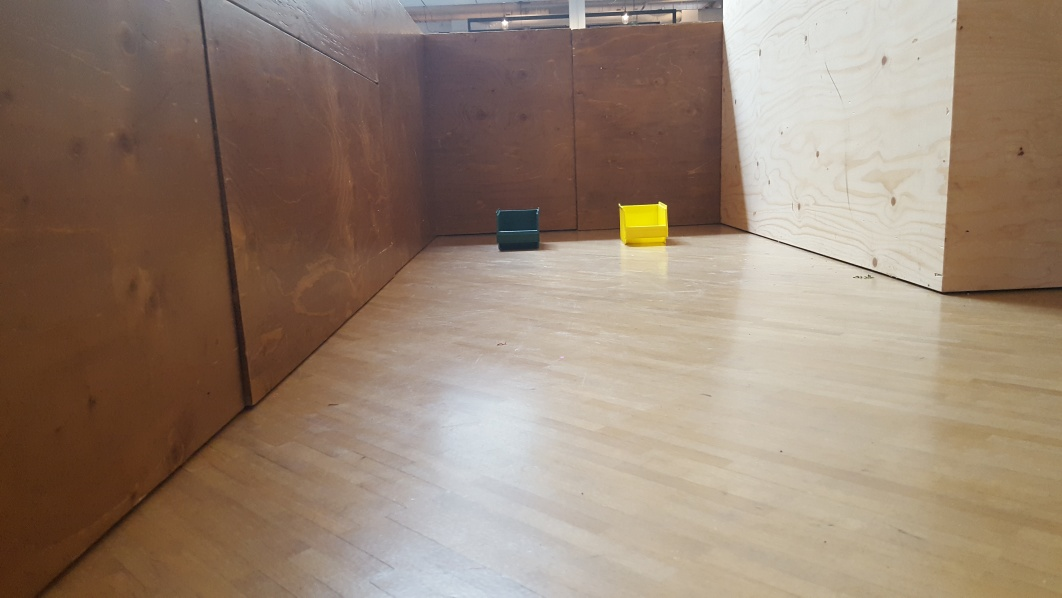tray: (492, 204, 544, 250), (619, 202, 668, 243)
